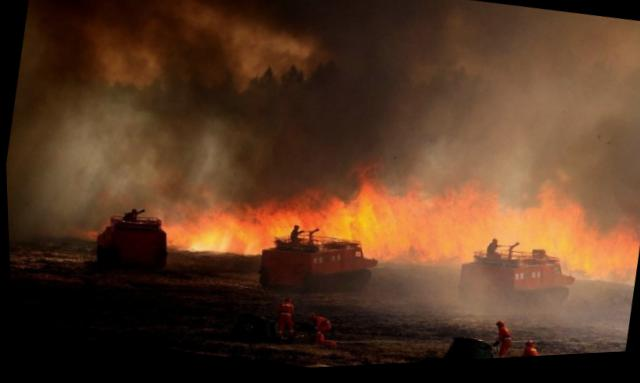fire: (158, 110, 639, 330)
